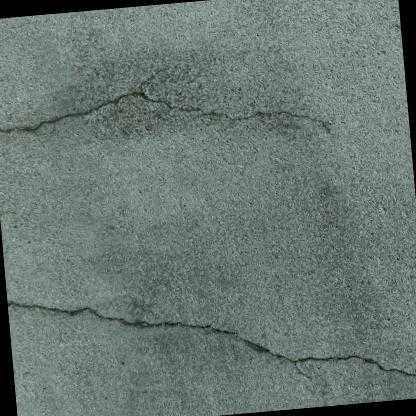crack: (7, 301, 416, 376), (0, 91, 329, 132)
